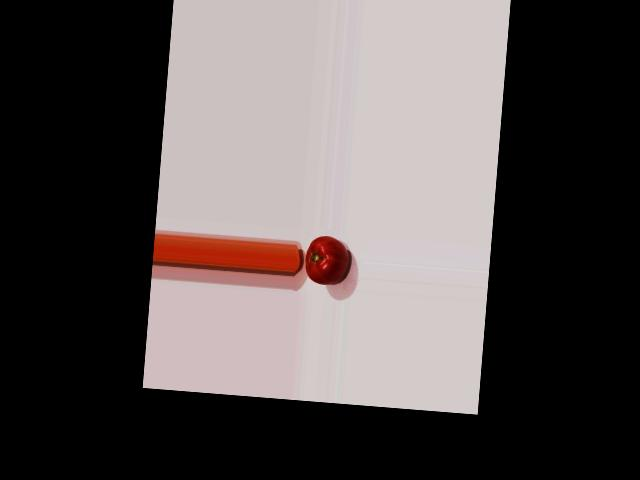tomato: (304, 234, 350, 285)
